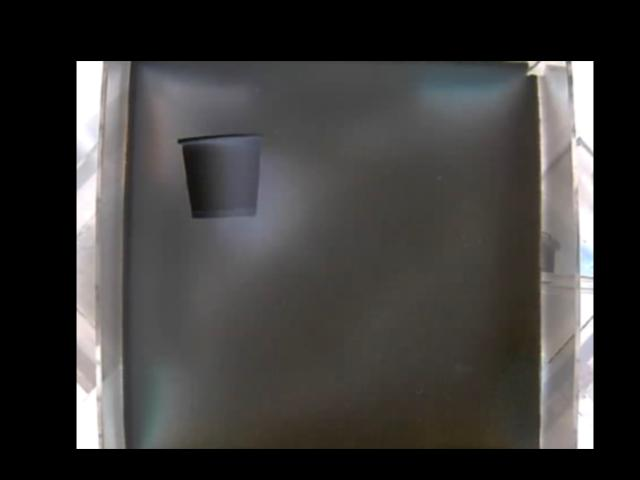Cup: (176, 131, 263, 219)
